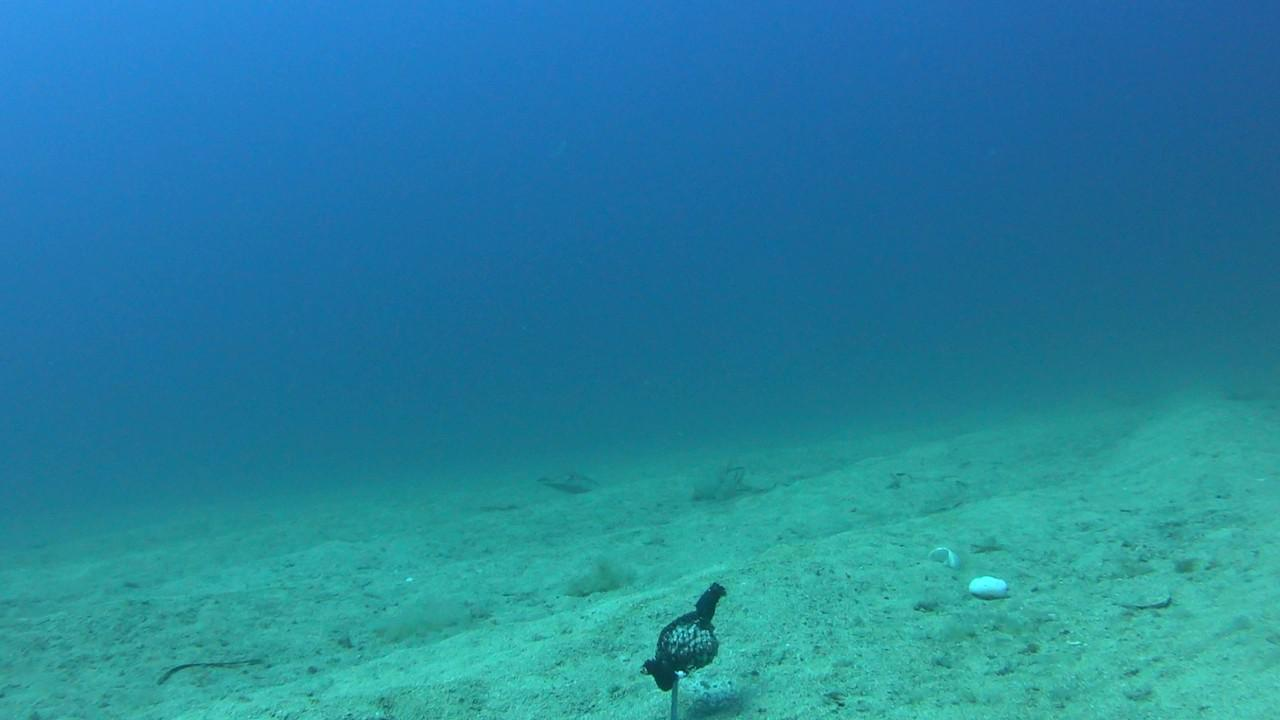myliobatis: (514, 467, 634, 503)
